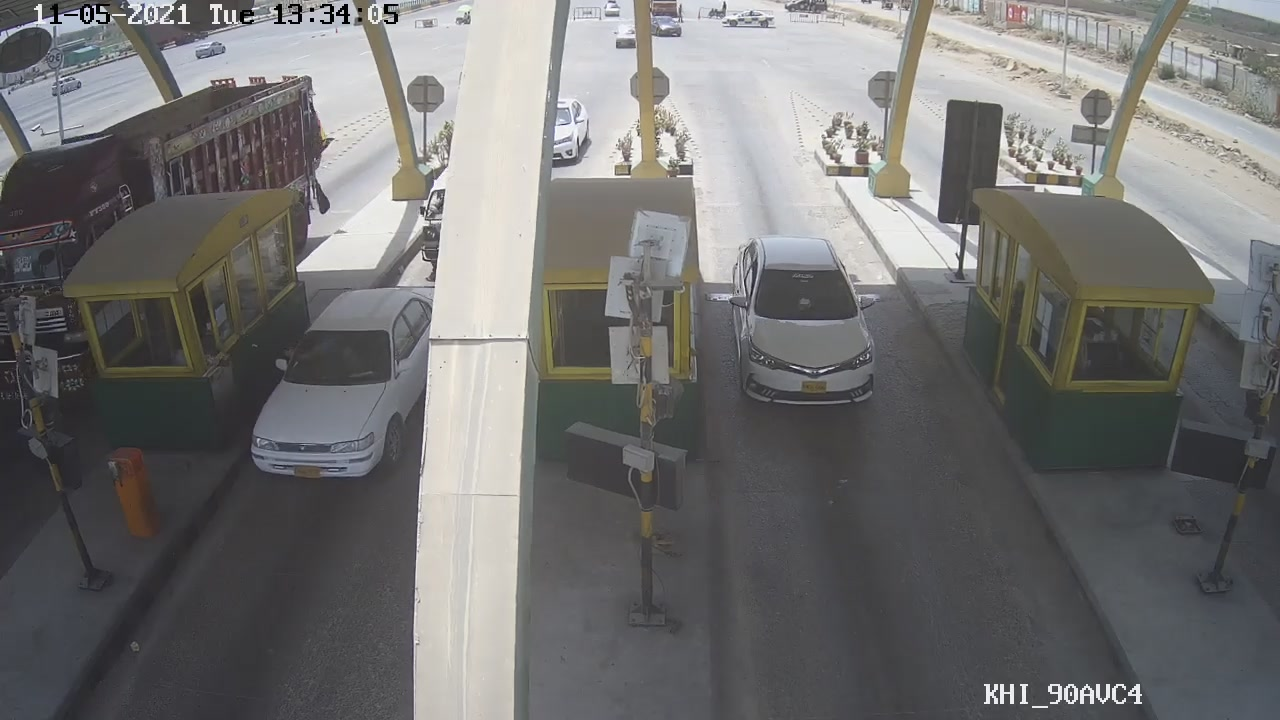F1: (726, 221, 891, 407)
